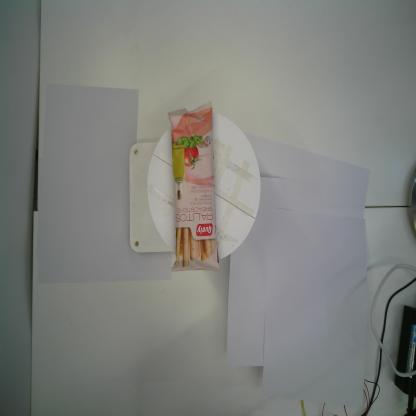Dessert: (166, 99, 223, 272)
